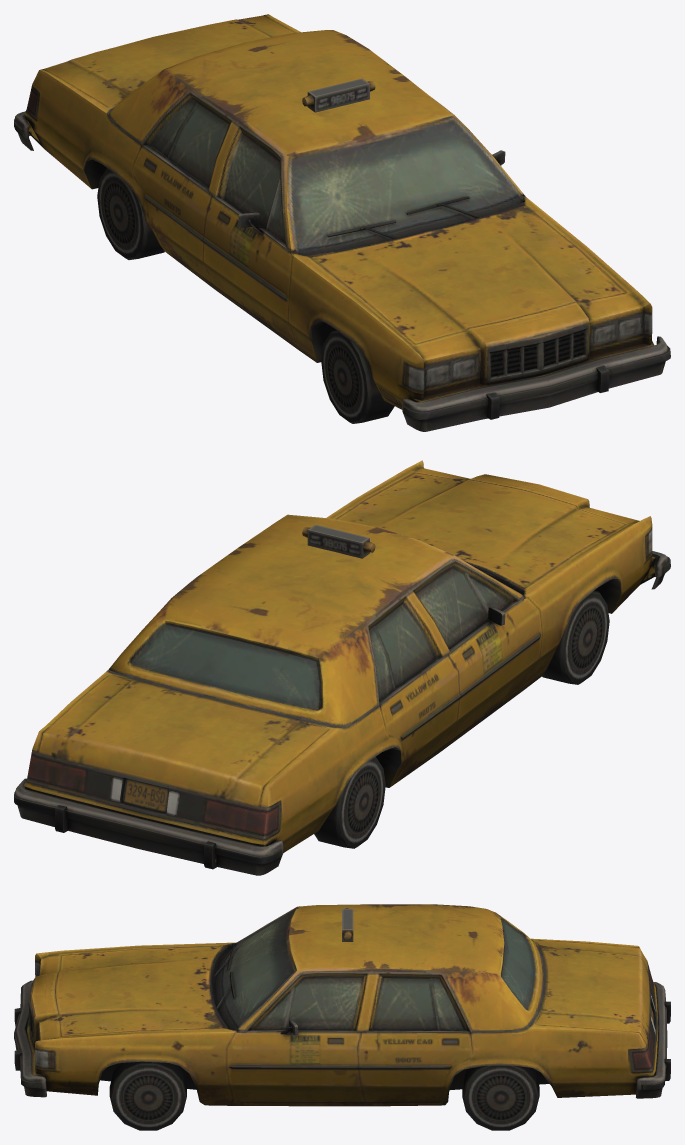
3 views of the same model, one above another, from view 1: azimuth 30°, elevation 25°; view 2: azimuth 150°, elevation 25°; view 3: azimuth 270°, elevation 25° (orthographic). The views are drawn at different scales.
Parts seen in each view (by area): view 1: ItemBox_Sedan_Taxi_01.001; view 2: ItemBox_Sedan_Taxi_01.001; view 3: ItemBox_Sedan_Taxi_01.001.
Part boxes in pixels (left/top/right/bottom): ItemBox_Sedan_Taxi_01.001: left=14, top=14, right=670, bottom=431; ItemBox_Sedan_Taxi_01.001: left=14, top=460, right=670, bottom=875; ItemBox_Sedan_Taxi_01.001: left=14, top=904, right=670, bottom=1130.
Bounding box in the file's own units: 2.11 × 1.6 × 5.73.
